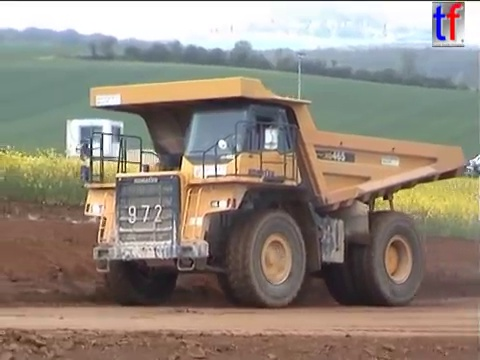truck: (73, 73, 468, 311)
